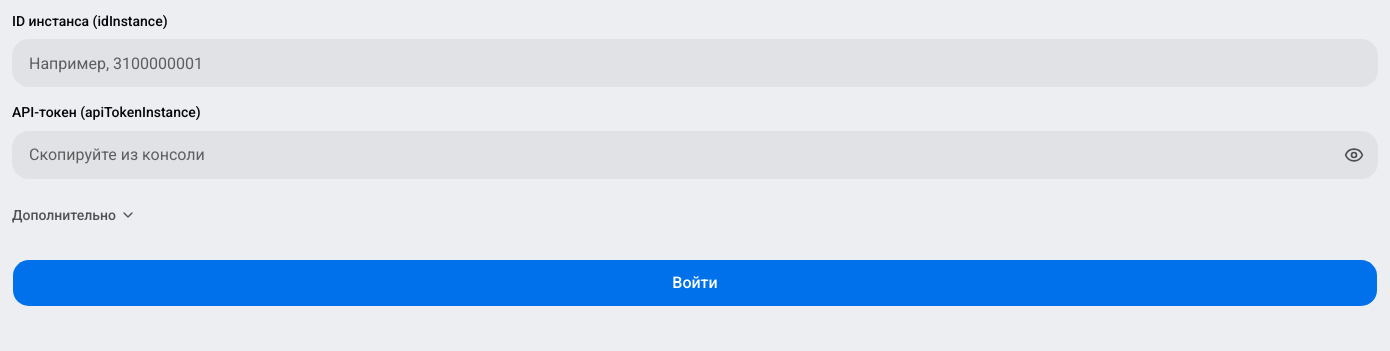
Test case: LoginForm › validates the instance id when the field loses focus
Type "abc" into the field labelled "ID инстанса (idInstance)" at (695, 63), box [12,39,1378,87]
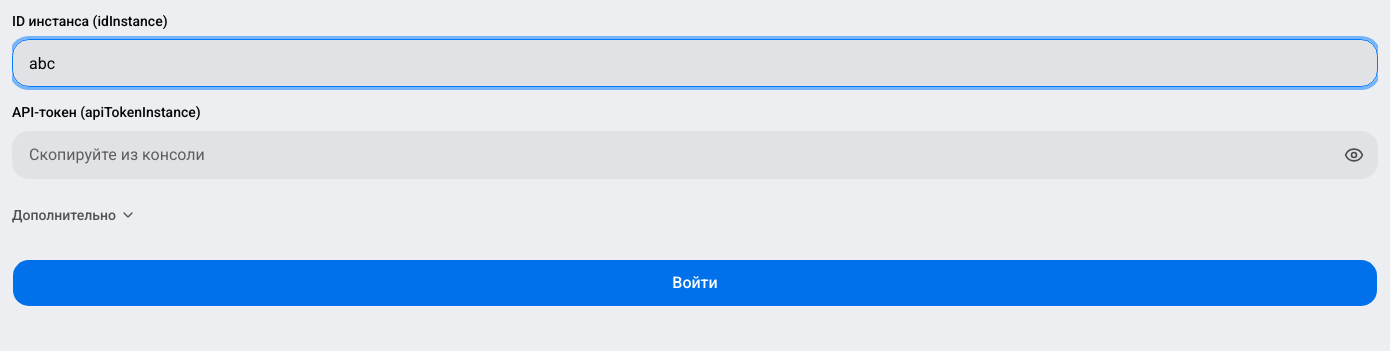
Press Tab
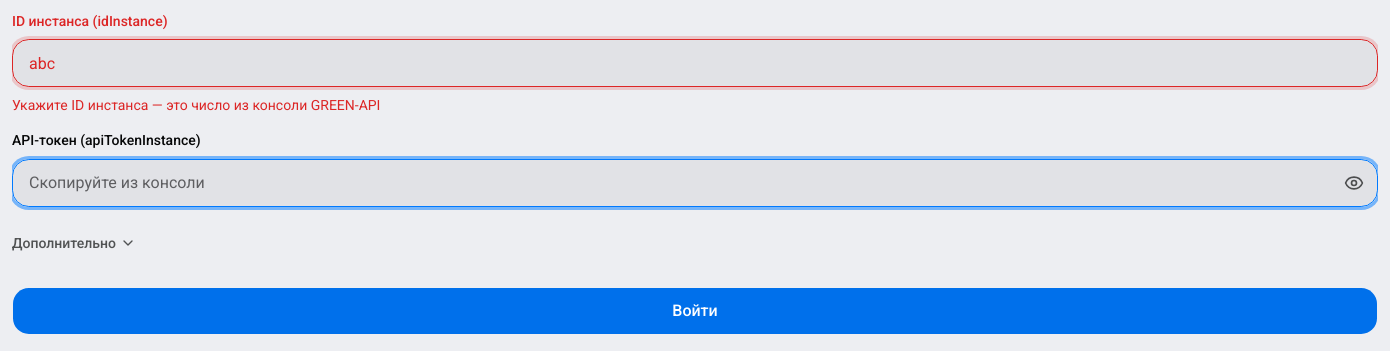
expect the text "Укажите ID инстанса — это число из консоли GREEN-API" is shown: met, box [12,97,380,113]
